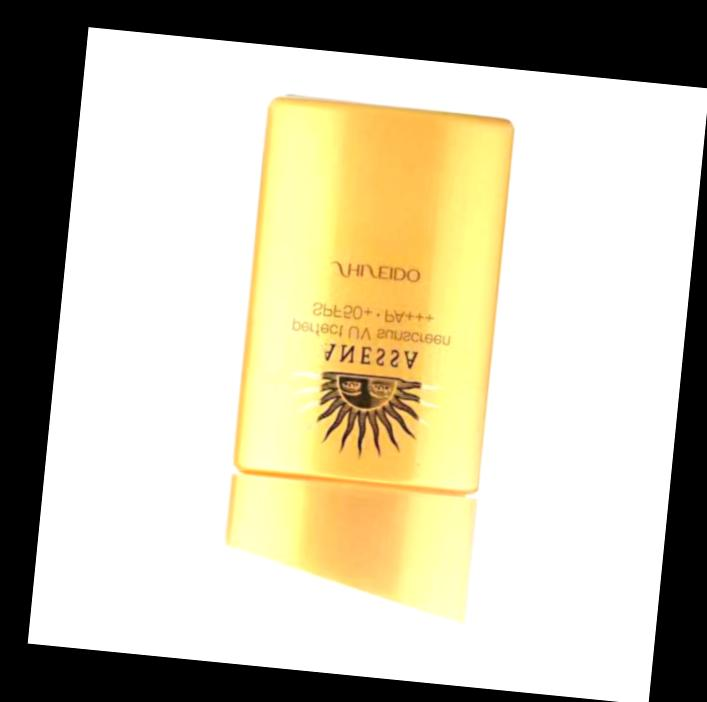cosmetic: (219, 96, 515, 640)
